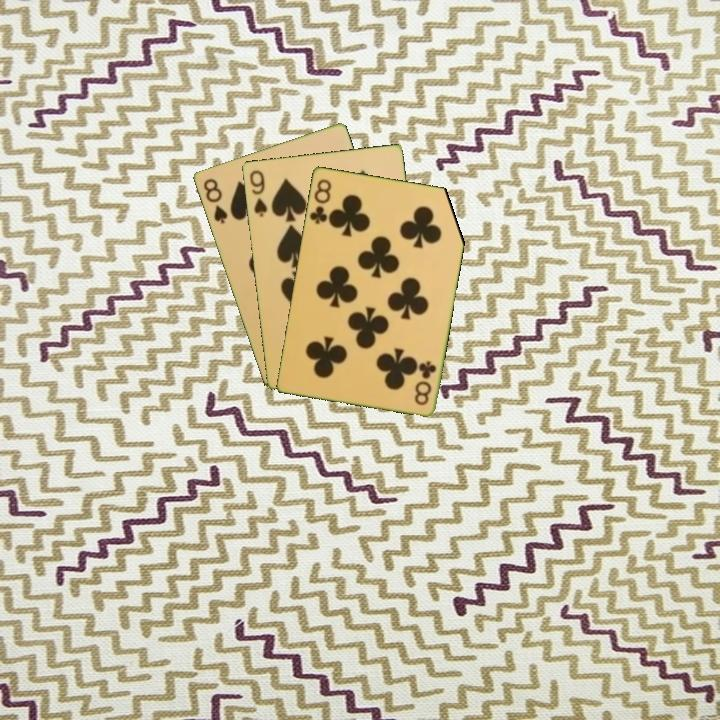8c: (306, 175, 334, 227), (411, 357, 439, 408)
8s: (199, 175, 230, 227)
9s: (246, 166, 270, 219)
